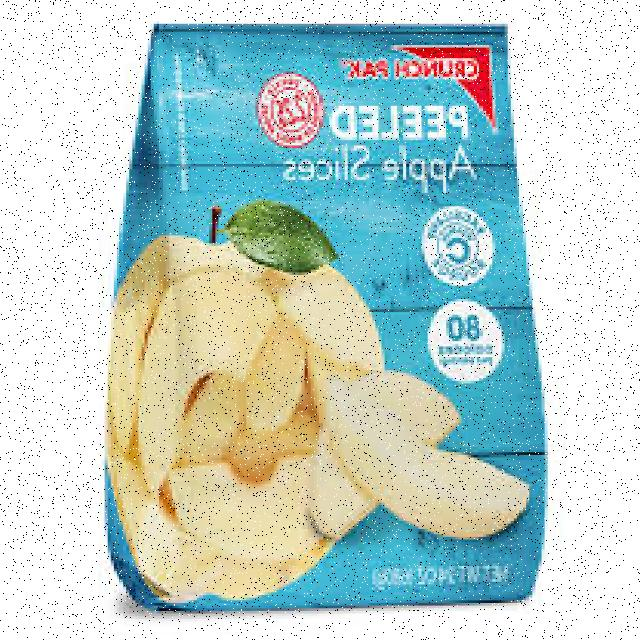Apple: (140, 268, 274, 493), (296, 364, 454, 548), (326, 436, 529, 538), (162, 451, 315, 559), (243, 332, 308, 430)
